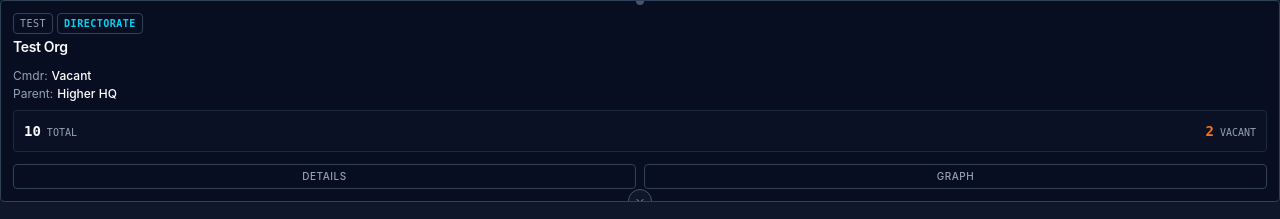
Scenario: OrganizationNode › shows tooltip on hover
The width and height of the screenshot is (1280, 219).
Hover over the text "Test Org": (640, 101) [0,0,1279,202]
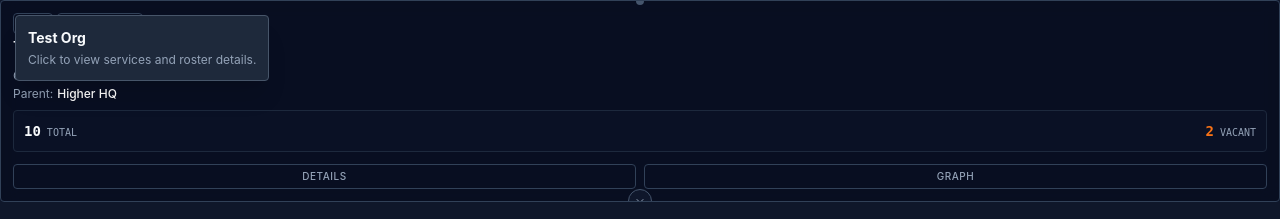
Expected: the text "Click to view services and roster details." is shown, [28,52,256,68]
